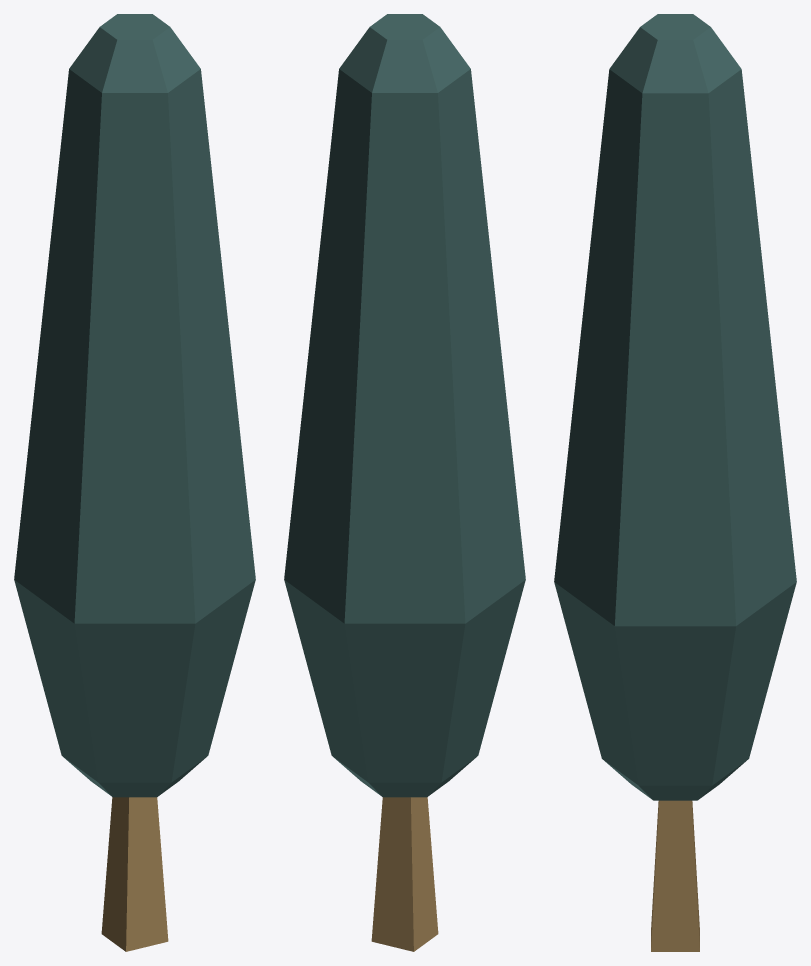
File: naturePack_148.obj
3 views of the same model, side by side, from view 1: azimuth 30°, elevation 25°; view 2: azimuth 150°, elevation 25°; view 3: azimuth 270°, elevation 25° (orthographic).
Visible parts, largest first — view 1: Mesh1_Group1_Model.064; view 2: Mesh1_Group1_Model.064; view 3: Mesh1_Group1_Model.064.
Boxes of the visible parts, <box> form: Mesh1_Group1_Model.064: <box>14,14,255,951</box>; Mesh1_Group1_Model.064: <box>284,14,525,951</box>; Mesh1_Group1_Model.064: <box>554,14,796,951</box>.
Size of the model in its own units: 1.72 by 8.25 by 1.98.
